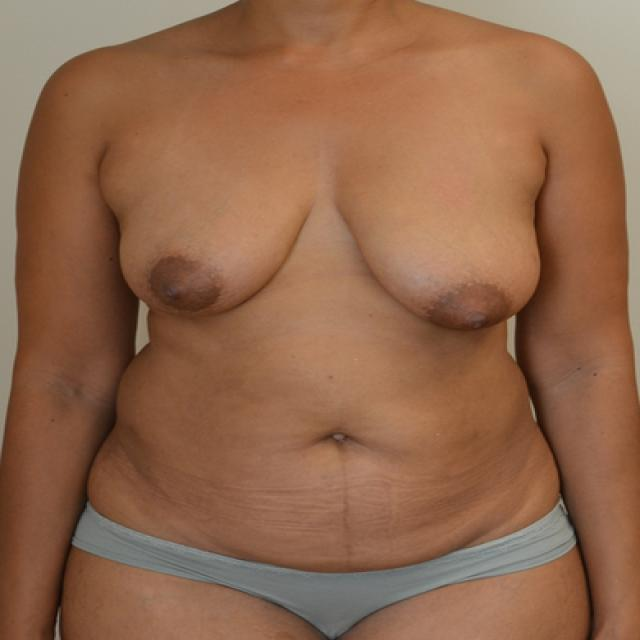Seno ileso: (109, 153, 322, 342), (335, 154, 548, 342)
